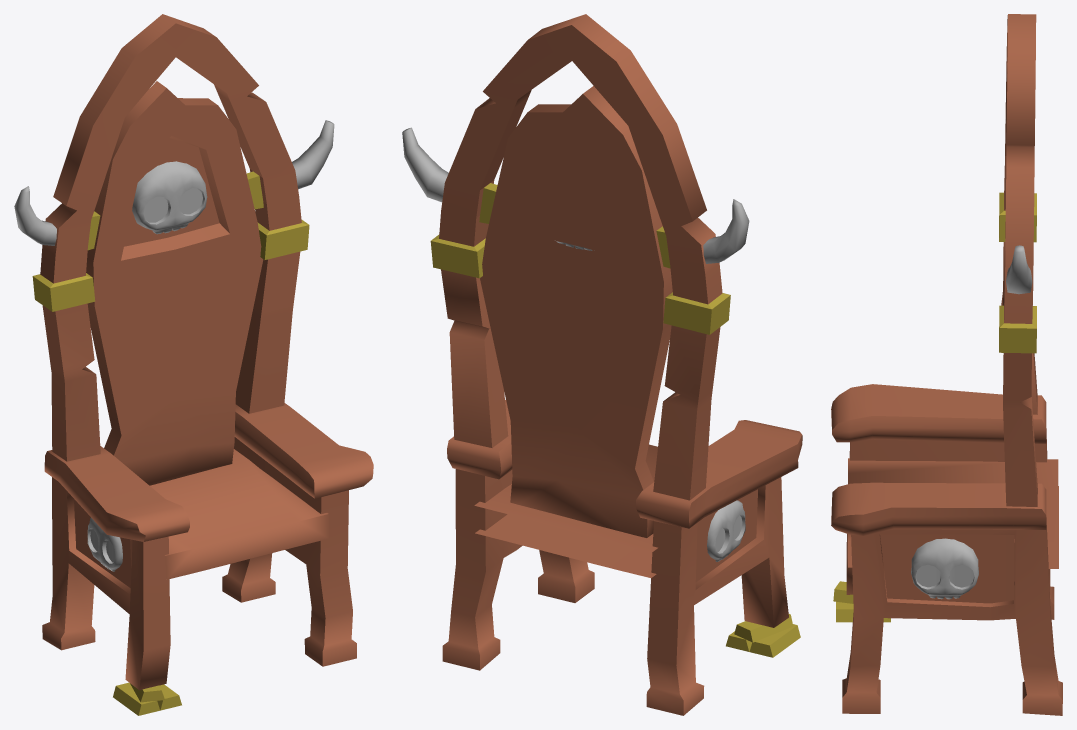
File: CadeiraCpt.fbx
3 renders of one model, left to right at view 1: azimuth 30°, elevation 25°; view 2: azimuth 150°, elevation 25°; view 3: azimuth 270°, elevation 25°, orthographic. The views are drawn at different scales.
Visible parts, largest first — view 1: Cadeira.Capitao; view 2: Cadeira.Capitao; view 3: Cadeira.Capitao.
Part boxes in pixels (left/top/right/bottom): Cadeira.Capitao: left=14, top=14, right=373, bottom=715; Cadeira.Capitao: left=402, top=14, right=802, bottom=715; Cadeira.Capitao: left=831, top=14, right=1062, bottom=715.
Bounding box in the file's own units: 159 × 291 × 94.44.
